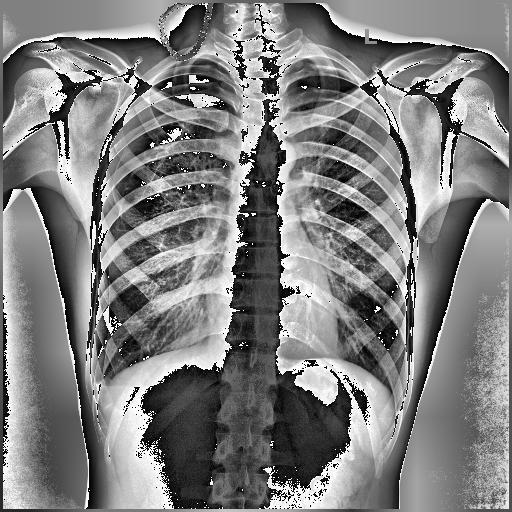10- Pleural effusion: (88, 374, 118, 412), (88, 376, 118, 408)
11- Pleural thickening: (88, 374, 118, 412), (88, 376, 118, 408), (91, 382, 107, 400)
12- Pneumothorax: (88, 56, 240, 390), (92, 50, 228, 379), (88, 60, 224, 384)
